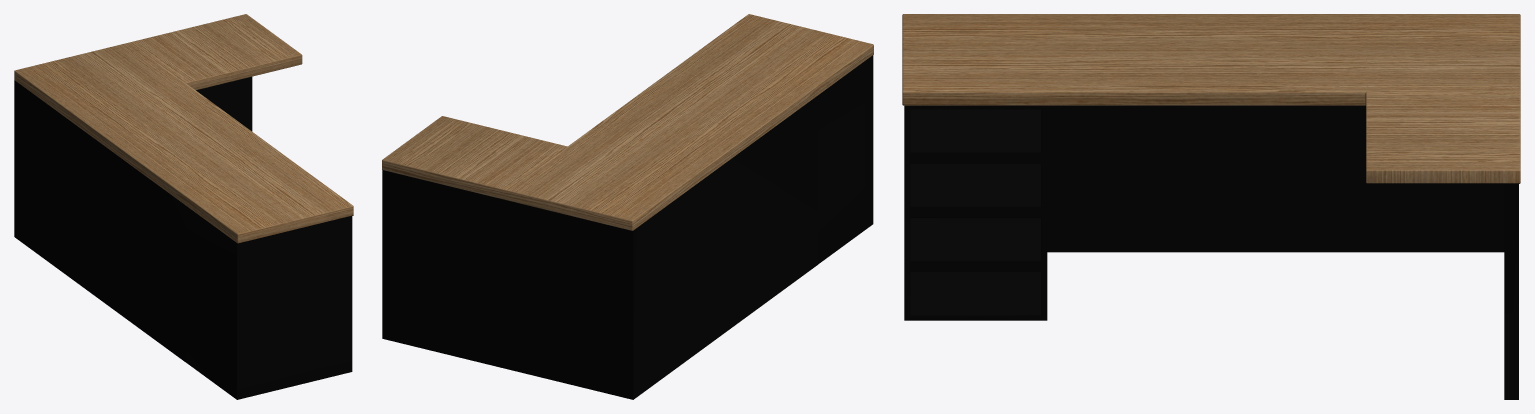
File: desk.glb
The picture shows the model from 3 angles, left to right: view 1: azimuth 30°, elevation 25°; view 2: azimuth 150°, elevation 25°; view 3: azimuth 270°, elevation 25°; orthographic projection. The views are drawn at different scales.
Parts seen in each view (by area): view 1: L-Shaped Desk; view 2: L-Shaped Desk; view 3: L-Shaped Desk.
Boxes of the visible parts, x1,y1,x2,y2 form: L-Shaped Desk: (14, 14, 353, 399); L-Shaped Desk: (382, 14, 873, 399); L-Shaped Desk: (902, 14, 1520, 399).
Bounding box in the file's own units: 1.2 × 0.82 × 2.
2 materials, 1 textured.
